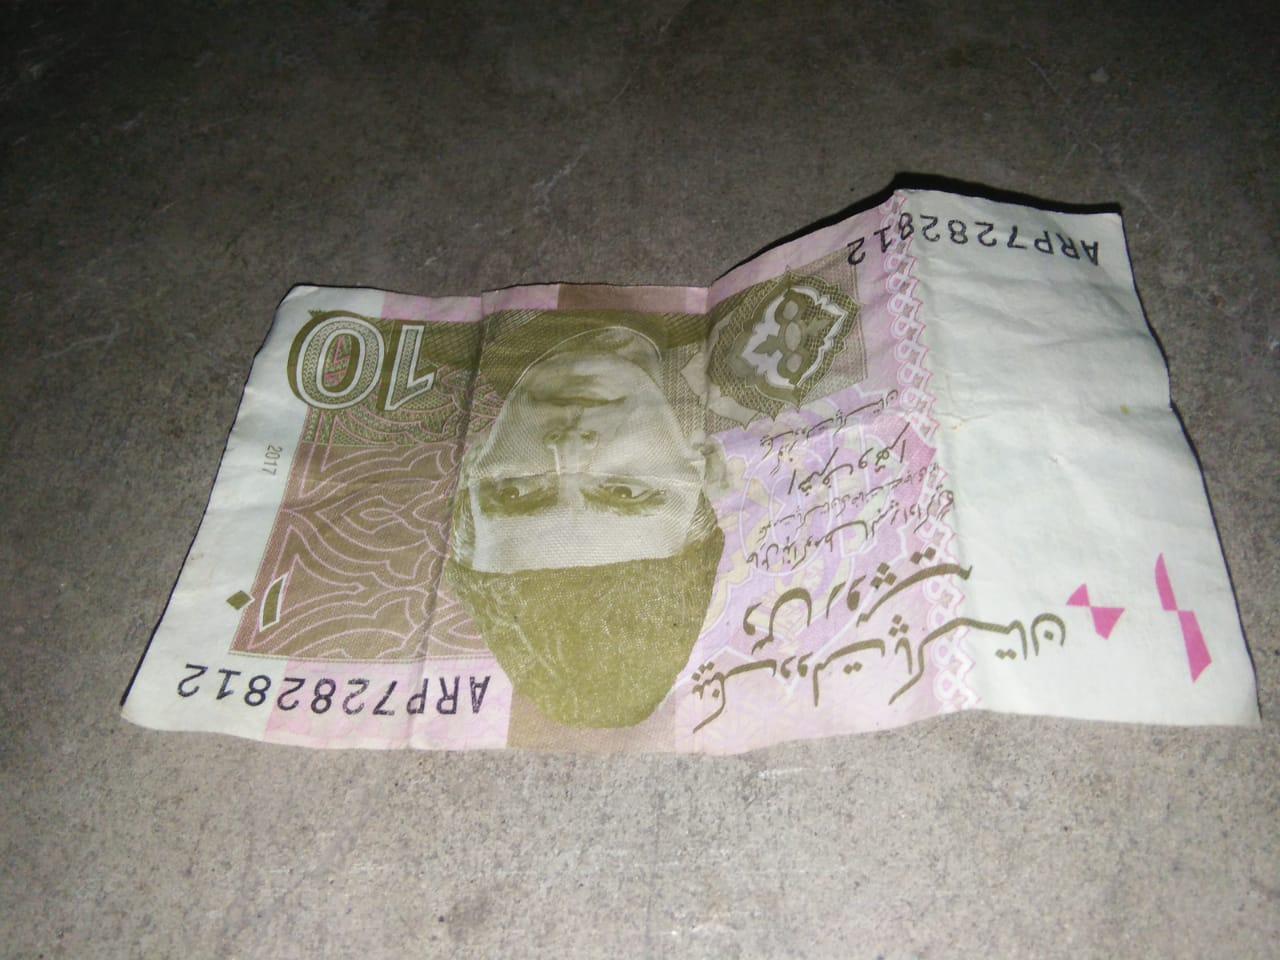10 rupee: (109, 204, 1280, 758)
